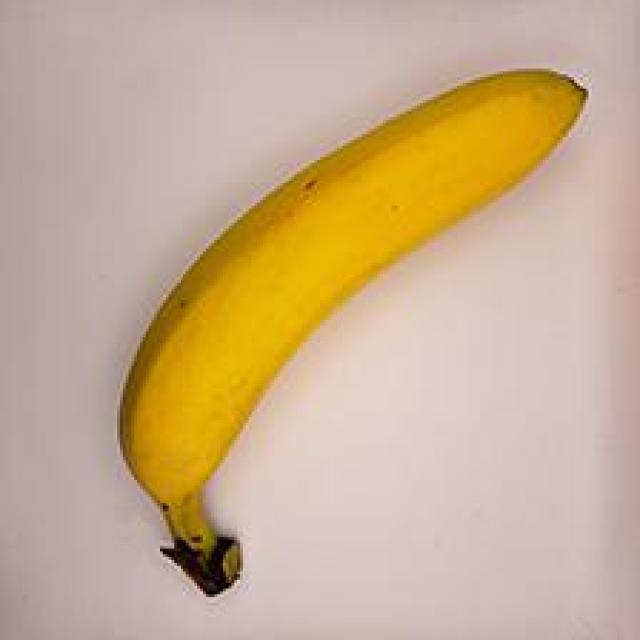Ripe: (109, 54, 640, 608)
